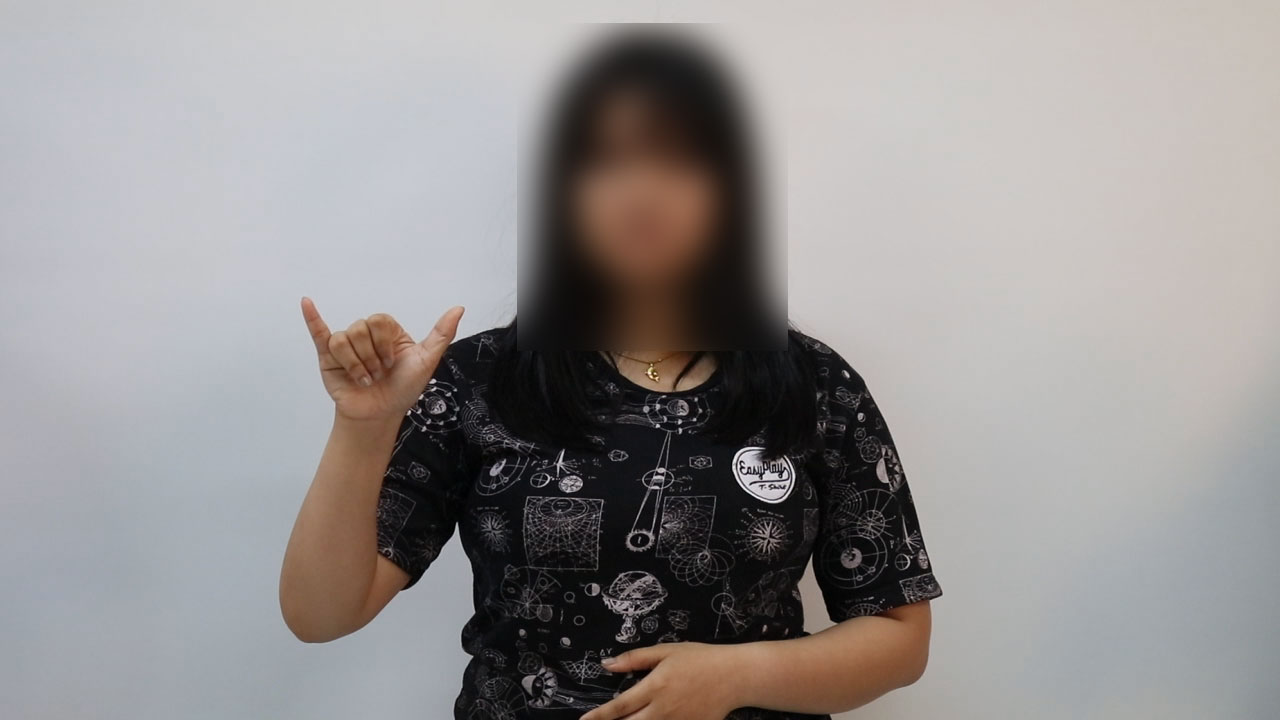yor: (294, 283, 470, 431)
